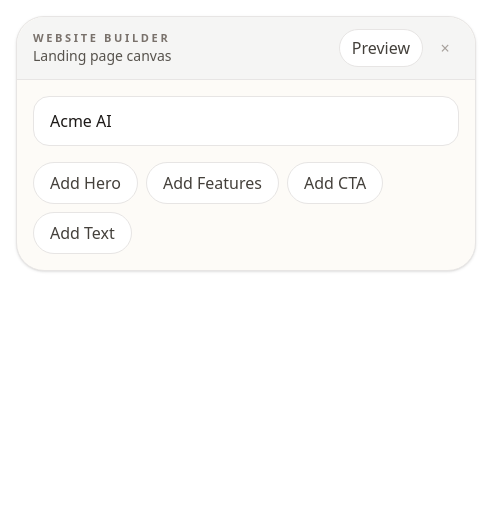
Scenario: WebsiteBuilder › renders without errors when blocks is empty
Expected: the field showing "Acme AI" is shown, x1=33 y1=96 x2=459 y2=146
Click the button "Preview".
click(381, 48)  # box x1=339 y1=29 x2=423 y2=67
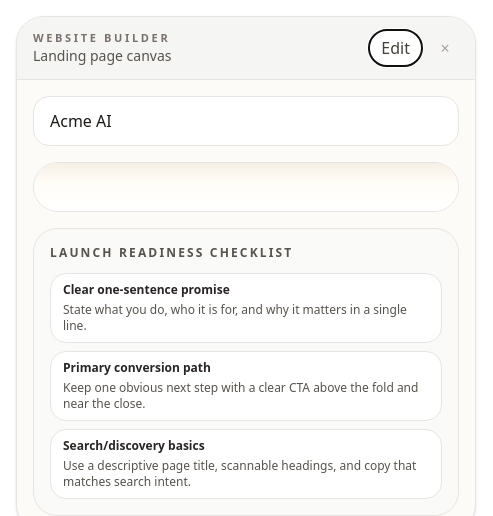
Expected: the button "Edit" is shown, x1=368 y1=29 x2=423 y2=67
